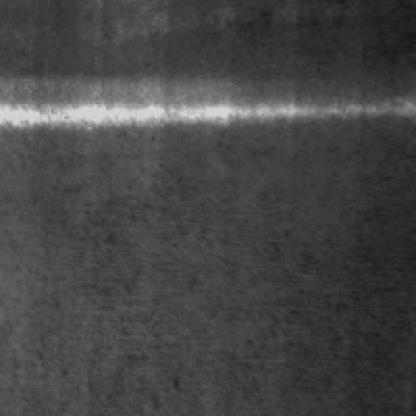scratches: (4, 79, 416, 135)
